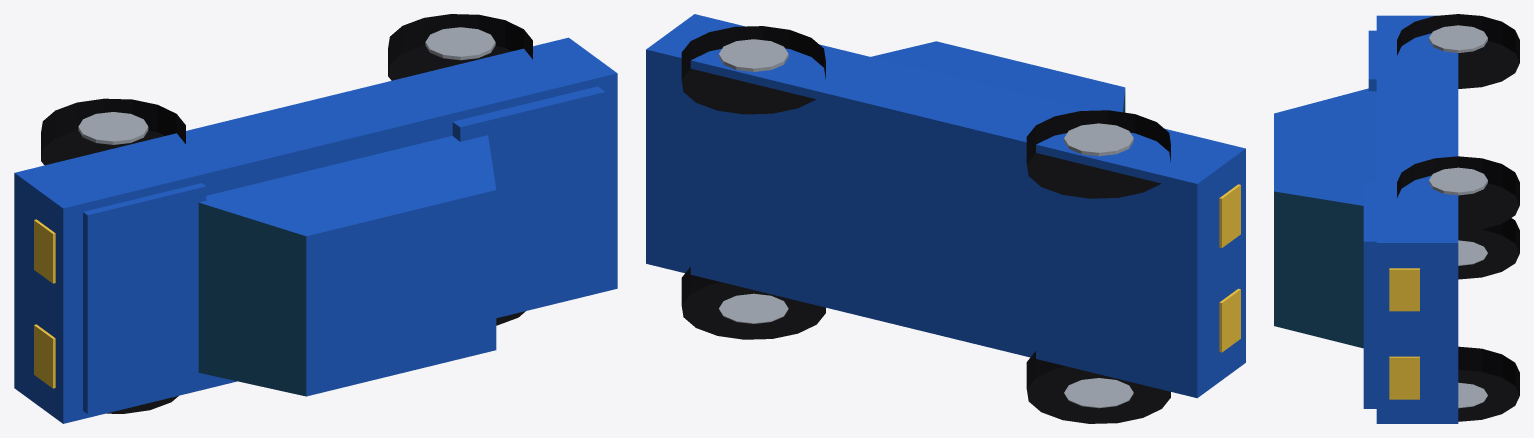
The model's file is car.obj.
3 views of the same model, side by side, from view 1: azimuth 30°, elevation 25°; view 2: azimuth 150°, elevation 25°; view 3: azimuth 270°, elevation 25° (orthographic). The views are drawn at different scales.
Visible parts, largest first — view 1: body, glass, tires, rims, lights; view 2: body, tires, rims, lights; view 3: body, tires, glass, rims, lights.
Boxes of the visible parts, <box> form: body: <box>14,37,617,423</box>; glass: <box>198,202,306,396</box>; tires: <box>41,14,532,413</box>; rims: <box>78,27,495,144</box>; lights: <box>34,219,55,388</box>; body: <box>646,14,1245,398</box>; tires: <box>681,26,1170,423</box>; rims: <box>719,39,1133,408</box>; lights: <box>1219,184,1240,352</box>; body: <box>1274,15,1458,423</box>; tires: <box>1397,14,1519,421</box>; glass: <box>1274,191,1363,348</box>; rims: <box>1429,25,1487,408</box>; lights: <box>1389,268,1419,399</box>.
Size of the model in its own units: 4.24 by 1.88 by 1.92.
